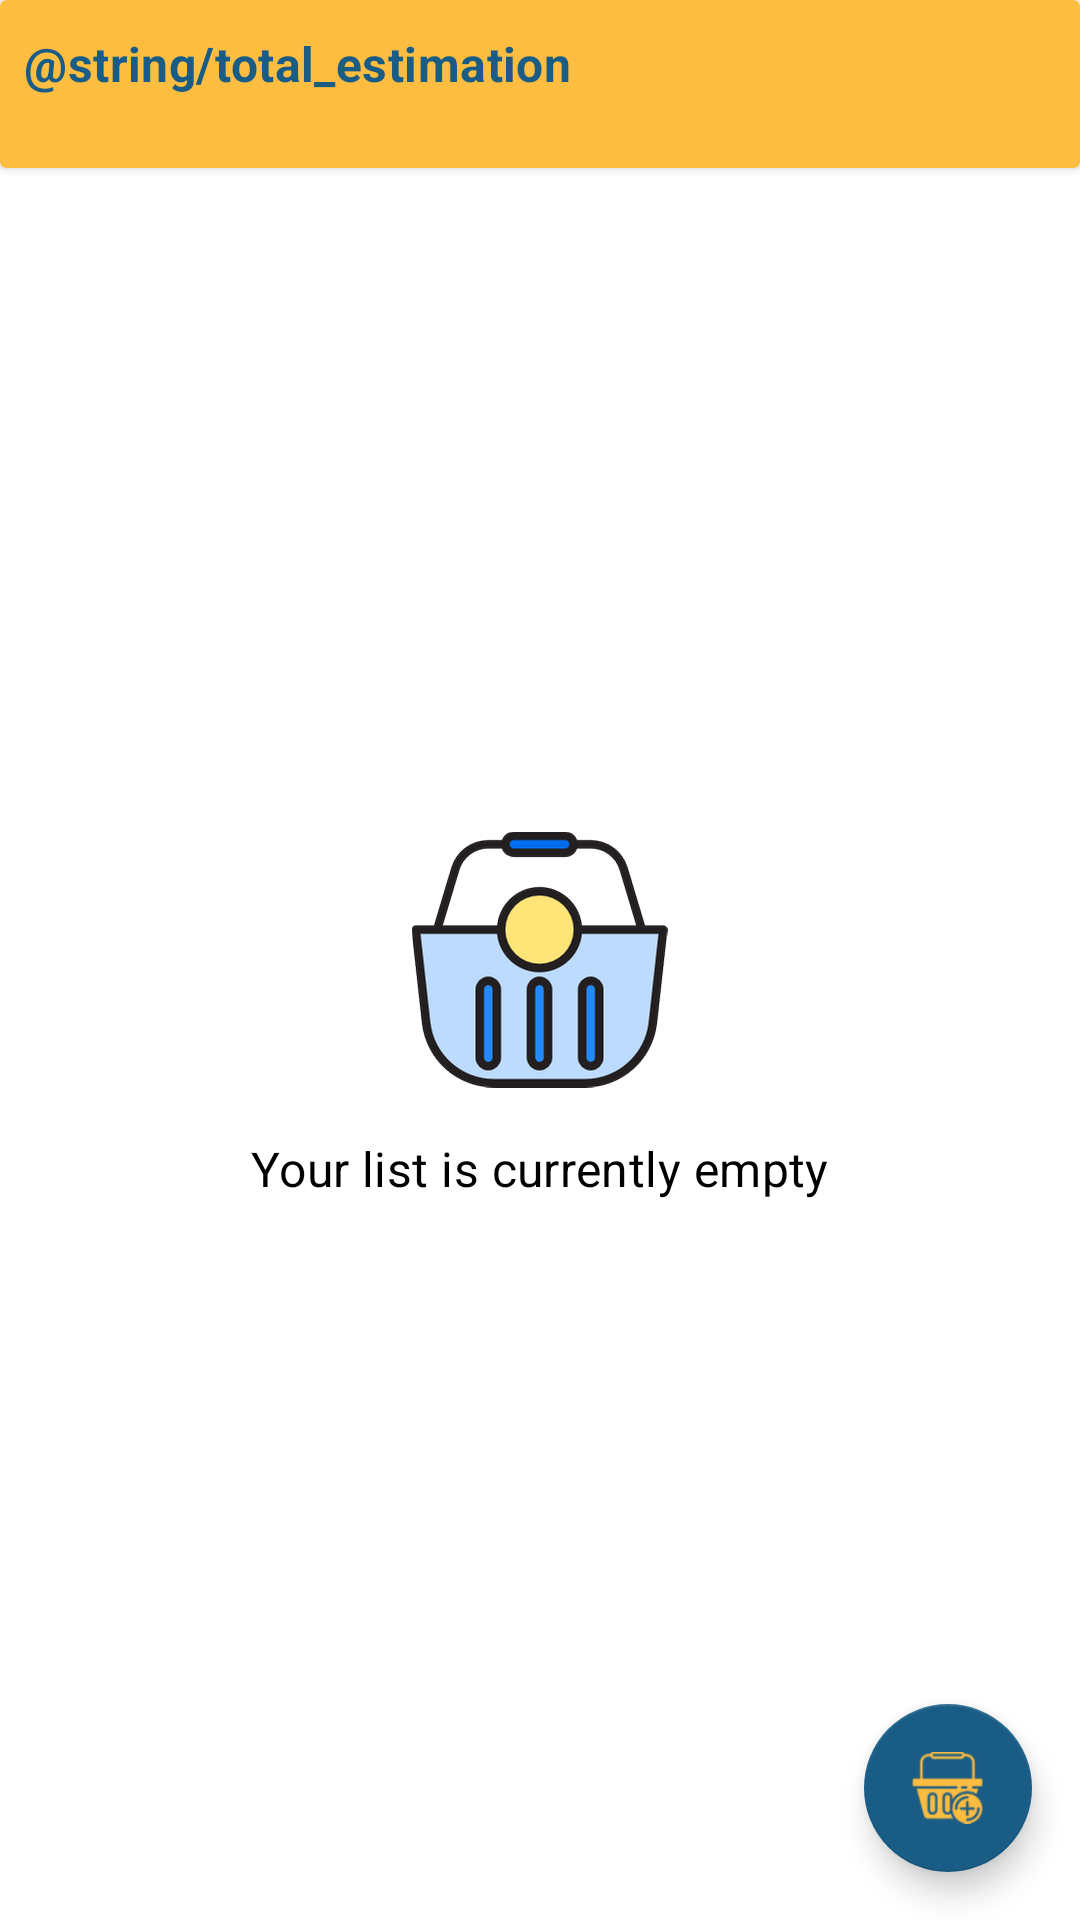

Named icons in this screenshot (1080×1920) and their bounding boxes, rect(x1, y1, x2, y2):
add to basket: rect(864, 1704, 1032, 1872)
